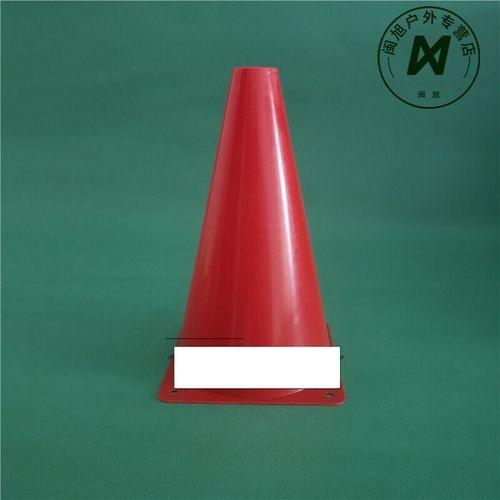cone_barrel: (158, 64, 349, 410)
